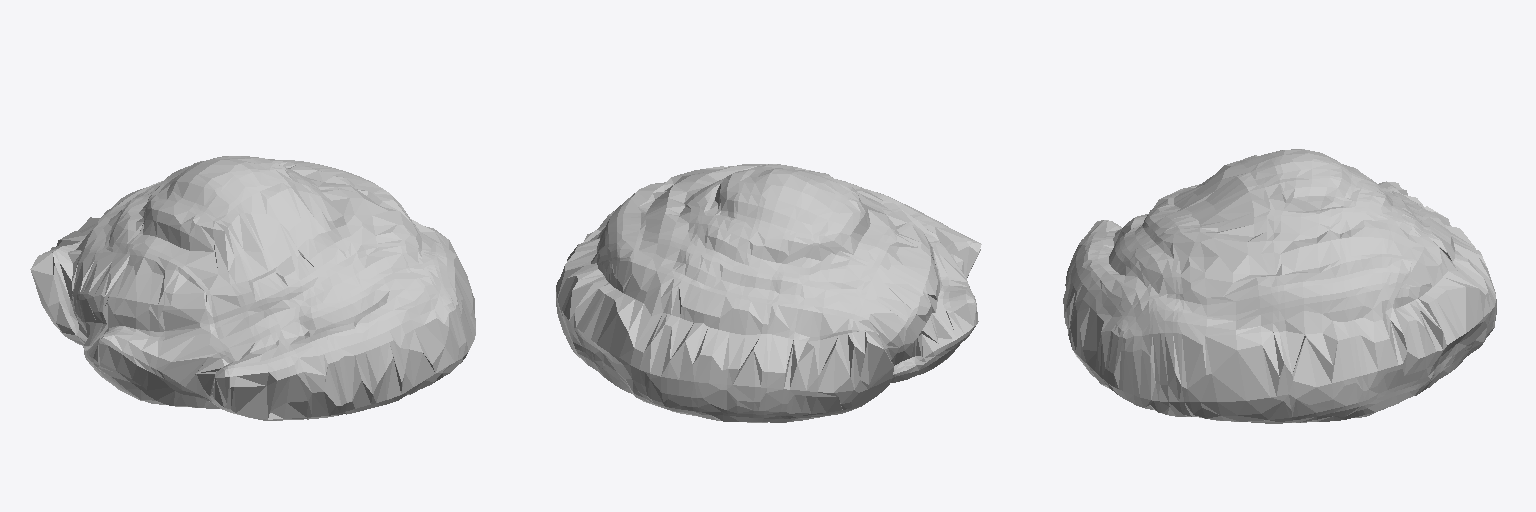
The model's file is pan5.obj.
3 views of the same model, side by side, from view 1: azimuth 30°, elevation 25°; view 2: azimuth 150°, elevation 25°; view 3: azimuth 270°, elevation 25° (orthographic).
Visible parts, largest first — view 1: pasted__pasted__pasted__polySurface4176 croissant5k36:croissant5; view 2: pasted__pasted__pasted__polySurface4176 croissant5k36:croissant5; view 3: pasted__pasted__pasted__polySurface4176 croissant5k36:croissant5.
Boxes of the visible parts, x1,y1,x2,y2 form: pasted__pasted__pasted__polySurface4176 croissant5k36:croissant5: [30, 156, 475, 420]; pasted__pasted__pasted__polySurface4176 croissant5k36:croissant5: [556, 164, 981, 422]; pasted__pasted__pasted__polySurface4176 croissant5k36:croissant5: [1063, 149, 1496, 423].
Bounding box in the file's own units: 0.173 × 0.0806 × 0.1764.